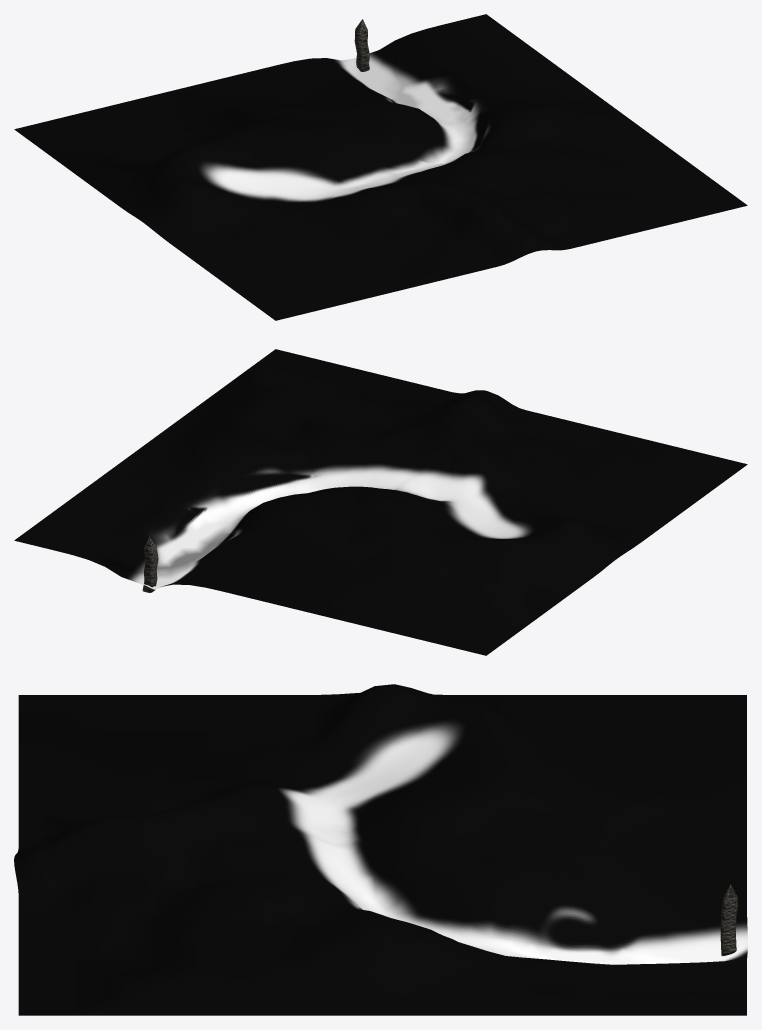
The model's file is terrtest.glb.
3 views of the same model, one above another, from view 1: azimuth 30°, elevation 25°; view 2: azimuth 150°, elevation 25°; view 3: azimuth 270°, elevation 25° (orthographic). The views are drawn at different scales.
Parts seen in each view (by area): view 1: Terr0, Terr2, Terr4, Terr1, Terr3, Column; view 2: Terr0, Terr3, Terr1, Terr4, Terr2, Column; view 3: Terr0, Terr2, Terr1, Terr3, Terr4, Column.
Boxes of the visible parts, x1,y1,x2,y2 form: Terr0: (125, 83, 616, 266); Terr2: (513, 110, 747, 248); Terr4: (178, 220, 496, 320); Terr1: (270, 14, 583, 123); Terr3: (14, 64, 291, 212); Column: (354, 19, 369, 71); Terr0: (112, 390, 649, 589); Terr3: (221, 550, 599, 655); Terr1: (14, 469, 290, 590); Terr4: (507, 410, 747, 535); Terr2: (145, 349, 451, 444); Column: (142, 537, 158, 592); Terr0: (14, 684, 655, 1015); Terr2: (18, 880, 381, 1015); Terr1: (475, 853, 747, 1015); Terr3: (435, 694, 746, 875); Terr4: (18, 695, 291, 844); Column: (720, 884, 737, 956).
Bounding box in the file's own units: 148 × 16.89 × 143.
Materials: 2 (2 with a texture image).
